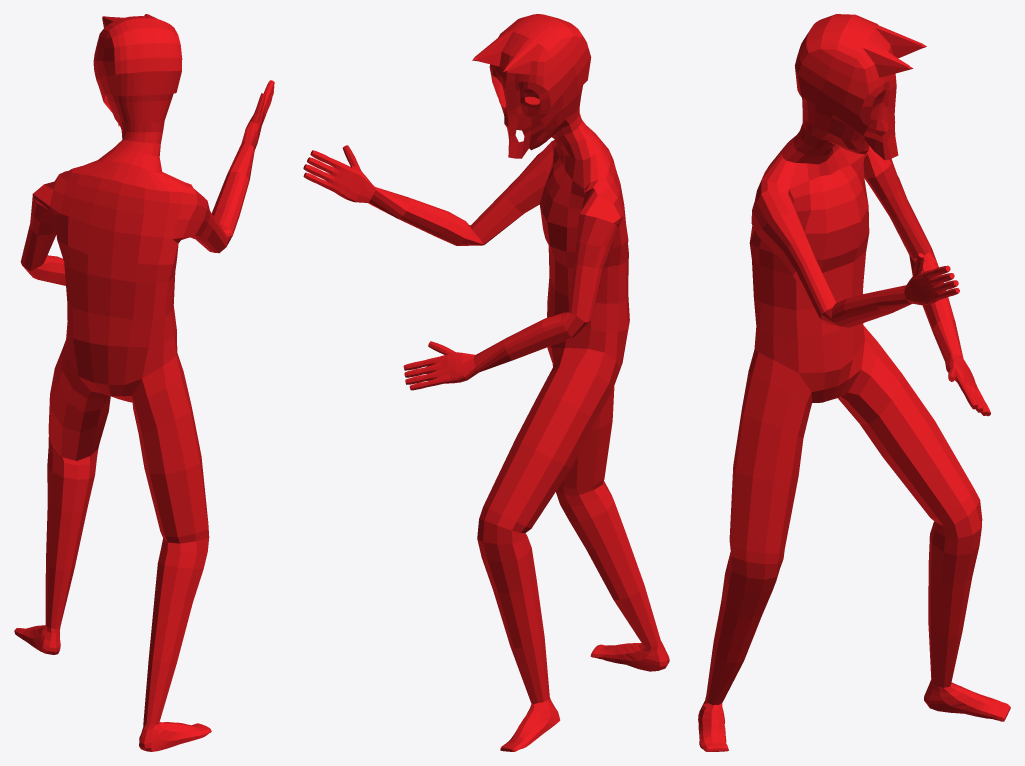
Rendered from activaAlarma_000063.obj.
3 renders of one model, left to right at view 1: azimuth 30°, elevation 25°; view 2: azimuth 150°, elevation 25°; view 3: azimuth 270°, elevation 25°, orthographic. The views are drawn at different scales.
Parts seen in each view (by area): view 1: Plane.002_Plane.001; view 2: Plane.002_Plane.001; view 3: Plane.002_Plane.001.
Part boxes in pixels (<box>): Plane.002_Plane.001: <box>14,14,274,751</box>; Plane.002_Plane.001: <box>303,14,669,751</box>; Plane.002_Plane.001: <box>698,14,1010,751</box>.
Size of the model in its own units: 2.92 by 6.87 by 2.66.
